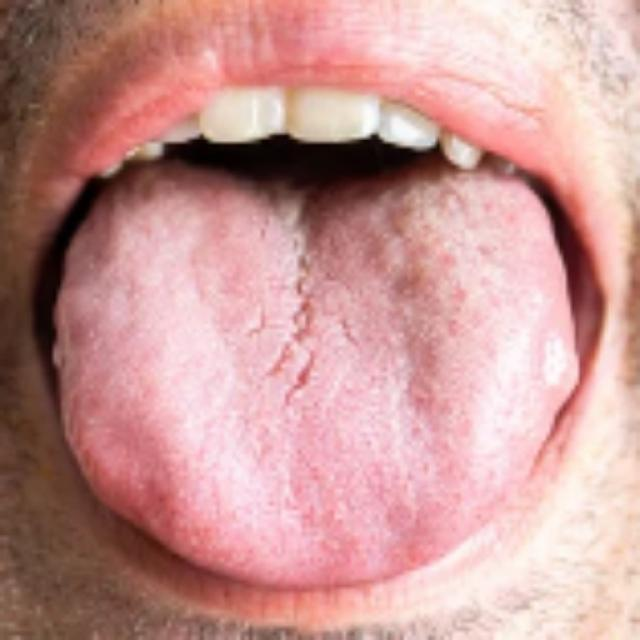processing_area: (59, 174, 579, 590)
